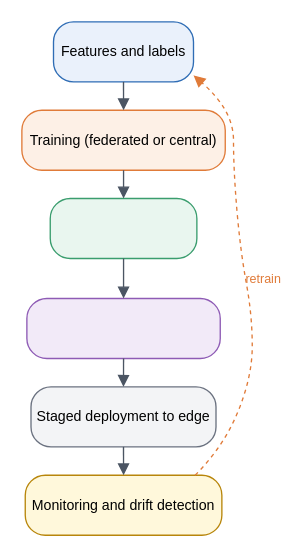
The diagram is 303 pixels wide and 558 high, and some of its shapes have lost their labels. Here are the shapes that lost their labels. From the top down, the centre of each, then its label:
At point 123,228: "Validation: accuracy, privacy, fairness".
At point 123,328: "Compression and packaging".
